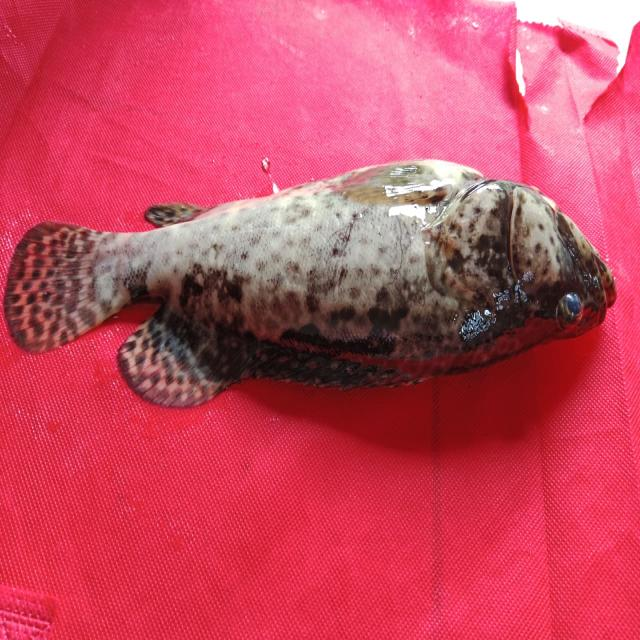ikan: (3, 156, 617, 410)
